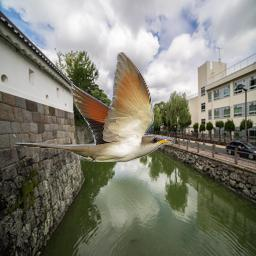Cuckoo: (14, 52, 173, 162)
